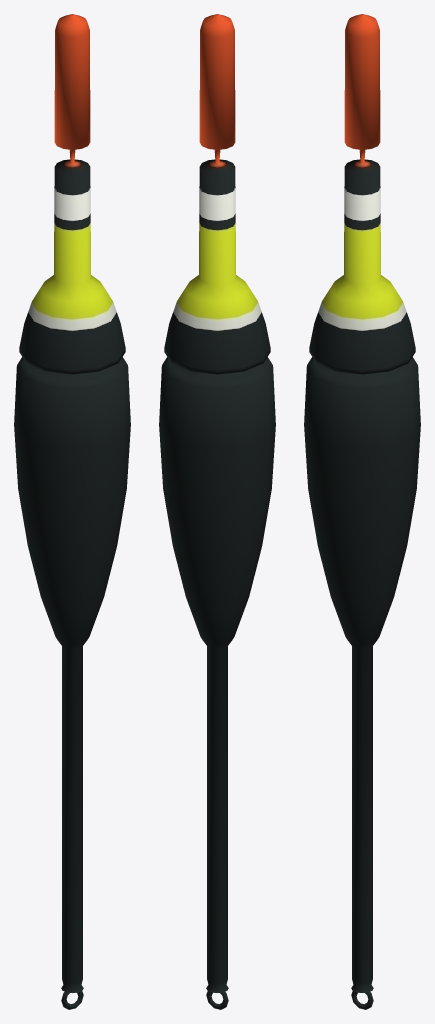
3 renders of one model, left to right at view 1: azimuth 30°, elevation 25°; view 2: azimuth 150°, elevation 25°; view 3: azimuth 330°, elevation 25°, orthographic.
Parts seen in each view (by area): view 1: F49_Float; view 2: F49_Float; view 3: F49_Float.
Part boxes in pixels (x1,y1,x2,y2): F49_Float: (14, 14, 130, 1009); F49_Float: (159, 14, 275, 1009); F49_Float: (304, 14, 420, 1009).
Size of the model in its own units: 0.0213 by 0.2 by 0.0213.
1 material, 1 textured.
